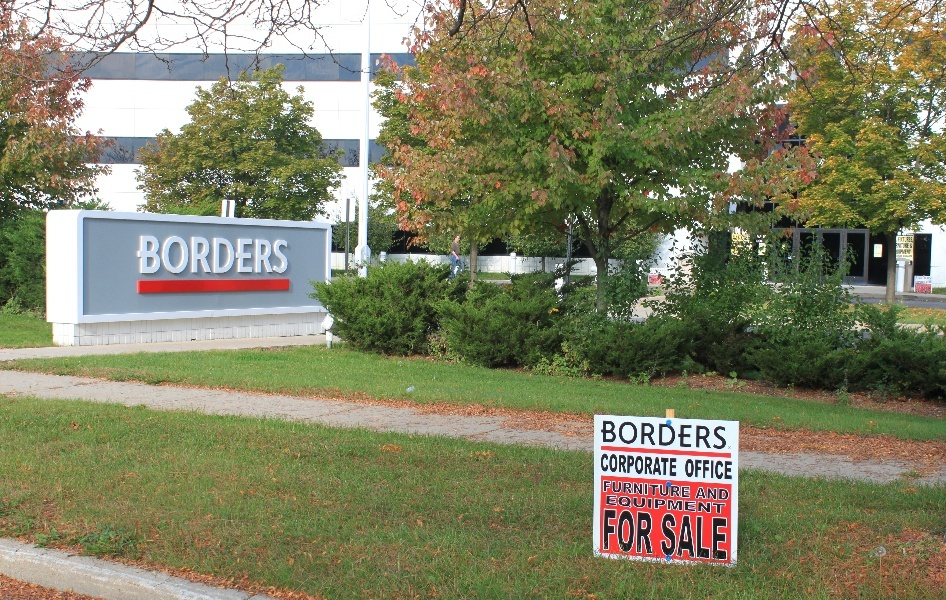text: (673, 512, 688, 561), (689, 512, 704, 561), (705, 512, 720, 561), (609, 508, 624, 555), (625, 508, 640, 555), (273, 235, 289, 275), (641, 508, 654, 555), (145, 235, 160, 275), (161, 235, 176, 275), (177, 235, 192, 275), (193, 235, 208, 275), (209, 235, 224, 275), (225, 235, 240, 275), (241, 235, 256, 275), (257, 235, 272, 275), (661, 512, 672, 561), (609, 420, 624, 450), (625, 420, 640, 450), (641, 420, 656, 450), (657, 420, 672, 450), (673, 420, 688, 450), (689, 420, 704, 450), (705, 420, 720, 450), (609, 453, 624, 477), (625, 453, 640, 477), (641, 453, 656, 477), (657, 453, 672, 477), (689, 458, 704, 481), (705, 458, 720, 481), (721, 512, 728, 561), (609, 495, 624, 516), (625, 495, 640, 516), (641, 495, 656, 516), (657, 495, 672, 516), (673, 495, 688, 516), (689, 495, 704, 516), (705, 495, 720, 516), (609, 480, 624, 499), (625, 480, 640, 499), (641, 480, 656, 499), (657, 480, 672, 499), (673, 480, 688, 499), (137, 235, 144, 275), (721, 458, 732, 481), (603, 508, 608, 555), (705, 486, 720, 501), (602, 420, 608, 450), (721, 420, 727, 450), (601, 453, 608, 477), (721, 486, 730, 501), (721, 495, 726, 516), (673, 453, 677, 477), (603, 480, 608, 499), (698, 486, 704, 501), (898, 237, 912, 243), (915, 287, 928, 293), (897, 250, 912, 255), (737, 235, 749, 241), (897, 243, 909, 249), (685, 458, 688, 481), (605, 495, 608, 516), (915, 276, 928, 280), (915, 284, 928, 288), (756, 235, 768, 239), (897, 255, 913, 258), (689, 480, 691, 499), (657, 278, 663, 284), (756, 240, 768, 243), (649, 279, 656, 284), (923, 288, 928, 294), (915, 281, 928, 283), (732, 235, 736, 241), (732, 241, 736, 247), (737, 241, 741, 247), (649, 269, 656, 272), (657, 269, 664, 272), (650, 276, 656, 279), (729, 447, 736, 449), (649, 273, 656, 275), (657, 273, 664, 275), (910, 243, 912, 249), (929, 288, 931, 294), (929, 281, 932, 284), (929, 276, 931, 280), (929, 284, 931, 288), (655, 278, 656, 284), (926, 281, 928, 284), (657, 276, 659, 279), (735, 247, 736, 252), (737, 247, 738, 252)
